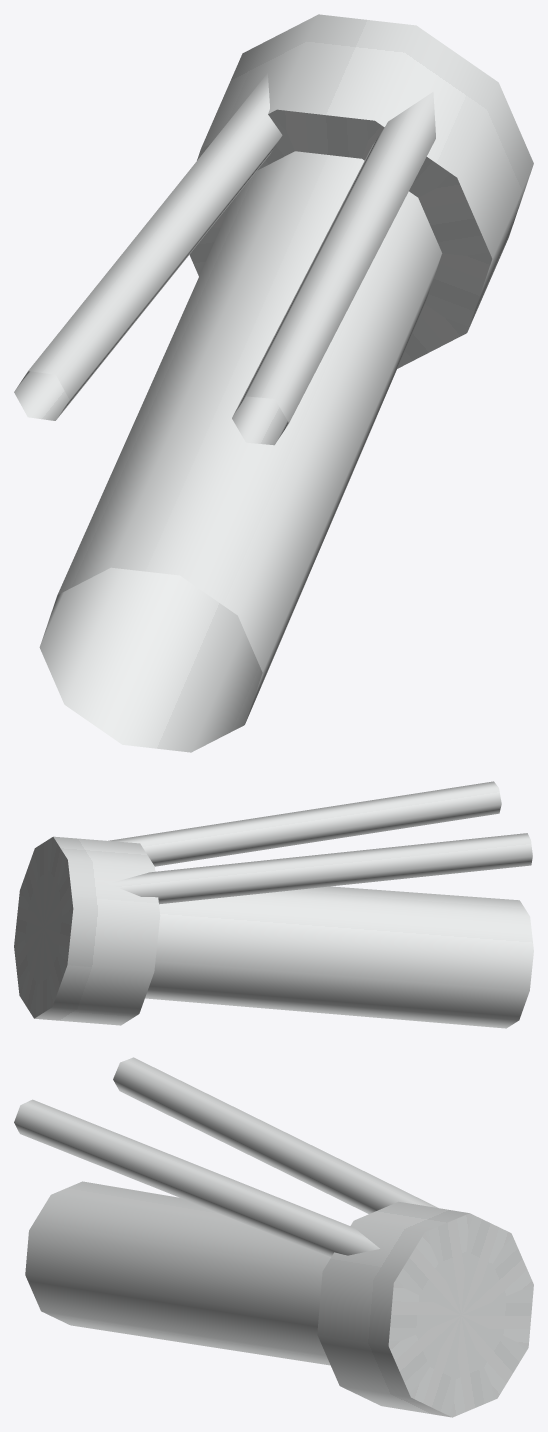
The model's file is nycsignalarm_diagonal8_c16.obj.
3 views of the same model, one above another, from view 1: azimuth 30°, elevation 25°; view 2: azimuth 150°, elevation 25°; view 3: azimuth 270°, elevation 25° (orthographic). The views are drawn at different scales.
Visible parts, largest first — view 1: nycsignalarm_diagonal8_c16; view 2: nycsignalarm_diagonal8_c16; view 3: nycsignalarm_diagonal8_c16.
Boxes of the visible parts, x1,y1,x2,y2 form: nycsignalarm_diagonal8_c16: [14, 14, 533, 752]; nycsignalarm_diagonal8_c16: [14, 781, 533, 1028]; nycsignalarm_diagonal8_c16: [14, 1057, 533, 1417].
Size of the model in its own units: 0.8847 by 0.4669 by 0.8847.
